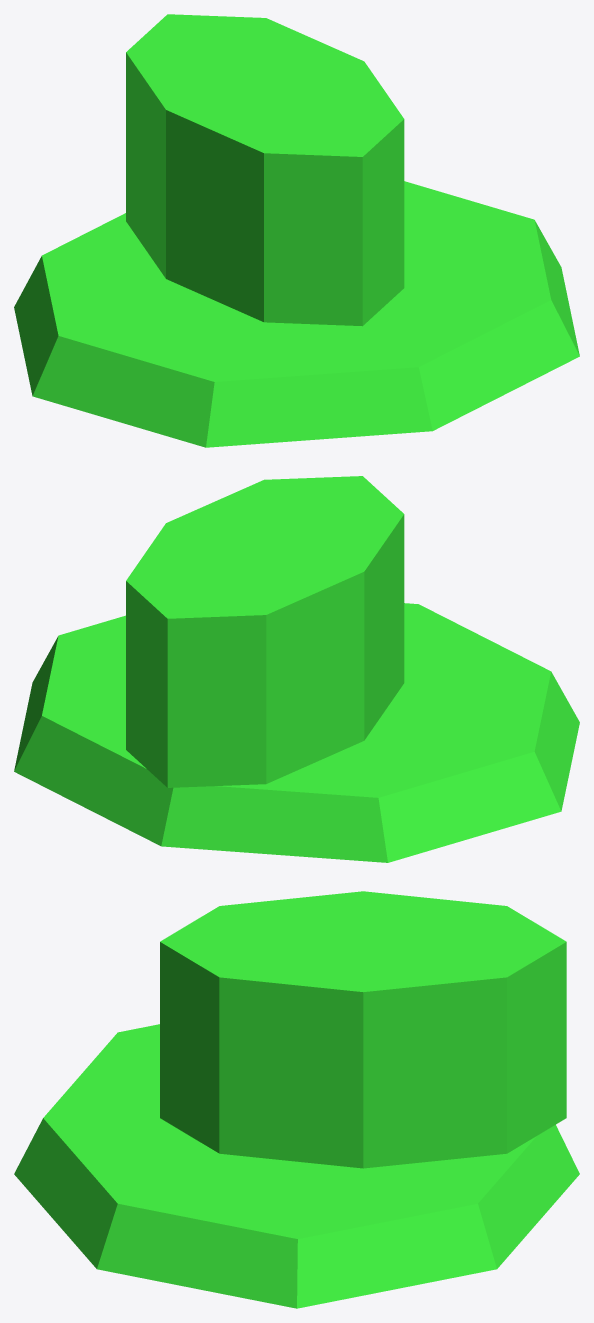
Rendered from pouncer_collision.fbx.
3 views of the same model, one above another, from view 1: azimuth 30°, elevation 25°; view 2: azimuth 150°, elevation 25°; view 3: azimuth 270°, elevation 25° (orthographic). The views are drawn at different scales.
Visible parts, largest first — view 1: Pouncer_CollisionProxy; view 2: Pouncer_CollisionProxy; view 3: Pouncer_CollisionProxy.
Boxes of the visible parts, x1,y1,x2,y2 form: Pouncer_CollisionProxy: [14, 14, 579, 447]; Pouncer_CollisionProxy: [14, 476, 579, 862]; Pouncer_CollisionProxy: [14, 891, 579, 1308].
Size of the model in its own units: 7.2 by 2.9 by 6.4.
